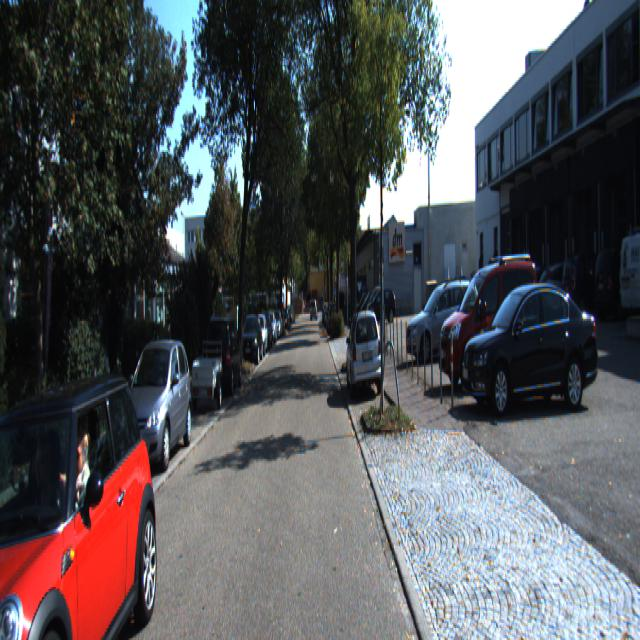Car: (0, 372, 159, 638), (458, 278, 604, 416), (437, 247, 547, 390), (117, 334, 194, 478), (404, 276, 481, 367), (559, 254, 630, 328), (534, 257, 602, 318), (345, 306, 384, 406), (206, 315, 243, 400), (616, 222, 640, 333), (188, 353, 223, 412), (239, 312, 263, 367)
